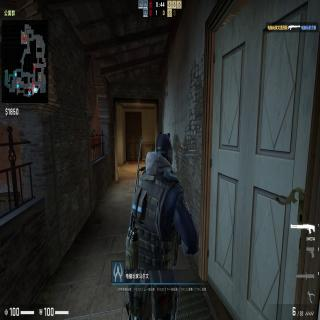CT-Head: (154, 131, 174, 166)
